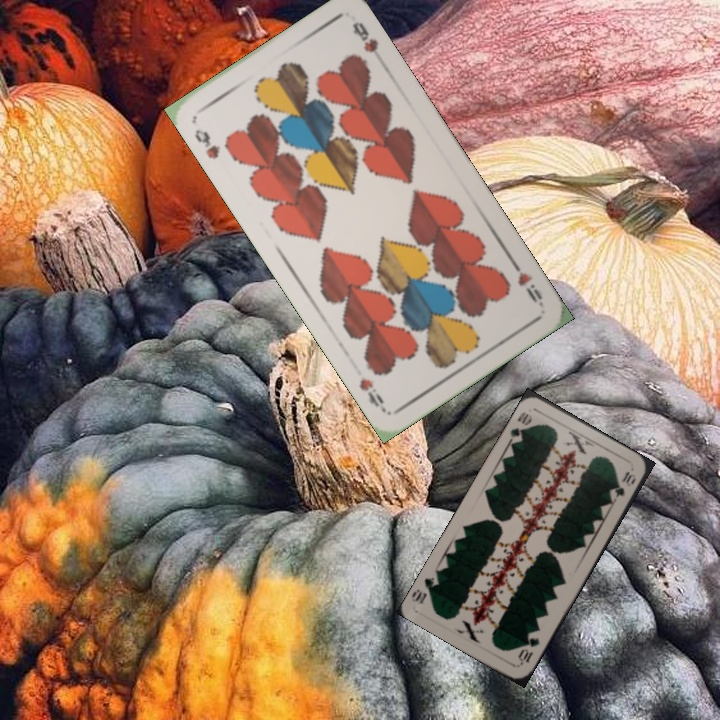G10: (506, 408, 535, 443), (514, 633, 543, 667)
H9: (507, 256, 546, 309), (190, 125, 223, 162)
